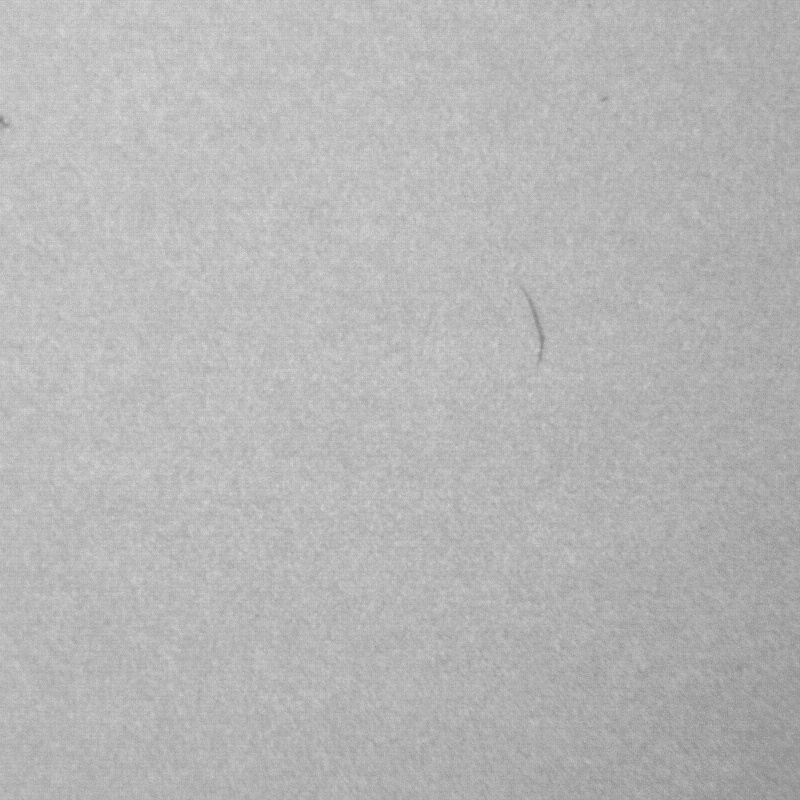defect: (518, 285, 549, 373), (2, 109, 15, 133)
